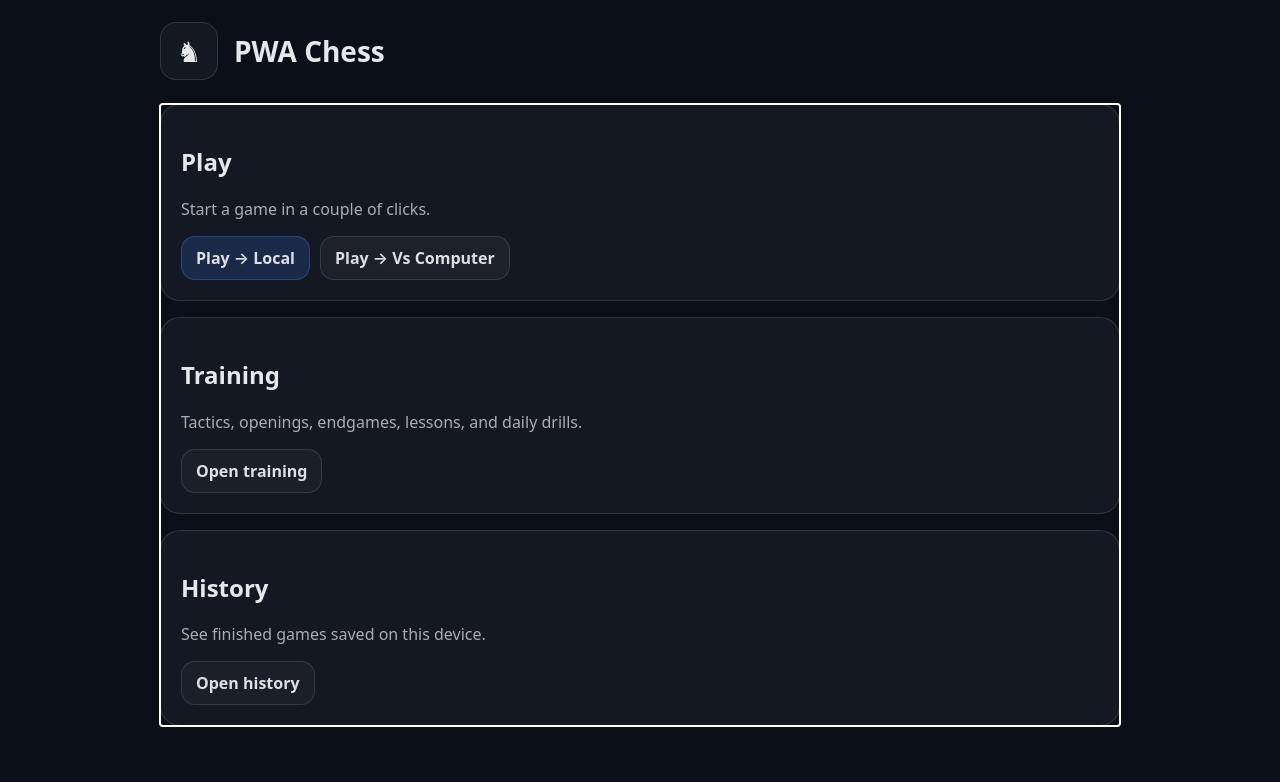
Scenario: Local game board › lets the user select a piece, highlights legal moves, and applies a move
Click the link "Play → Local" at [246, 258], box [181, 236, 310, 280]
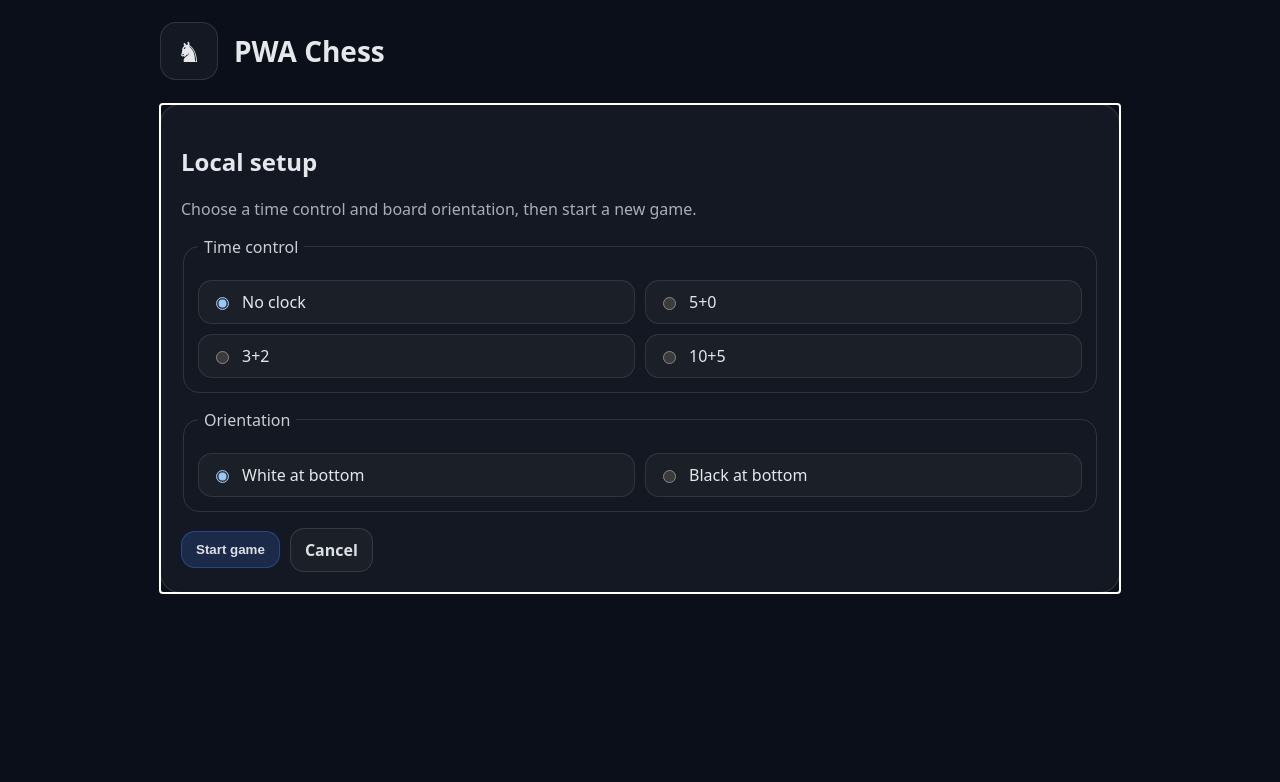
Click the button "Start game" at [230, 550], box [181, 531, 280, 568]
(page scrolled)
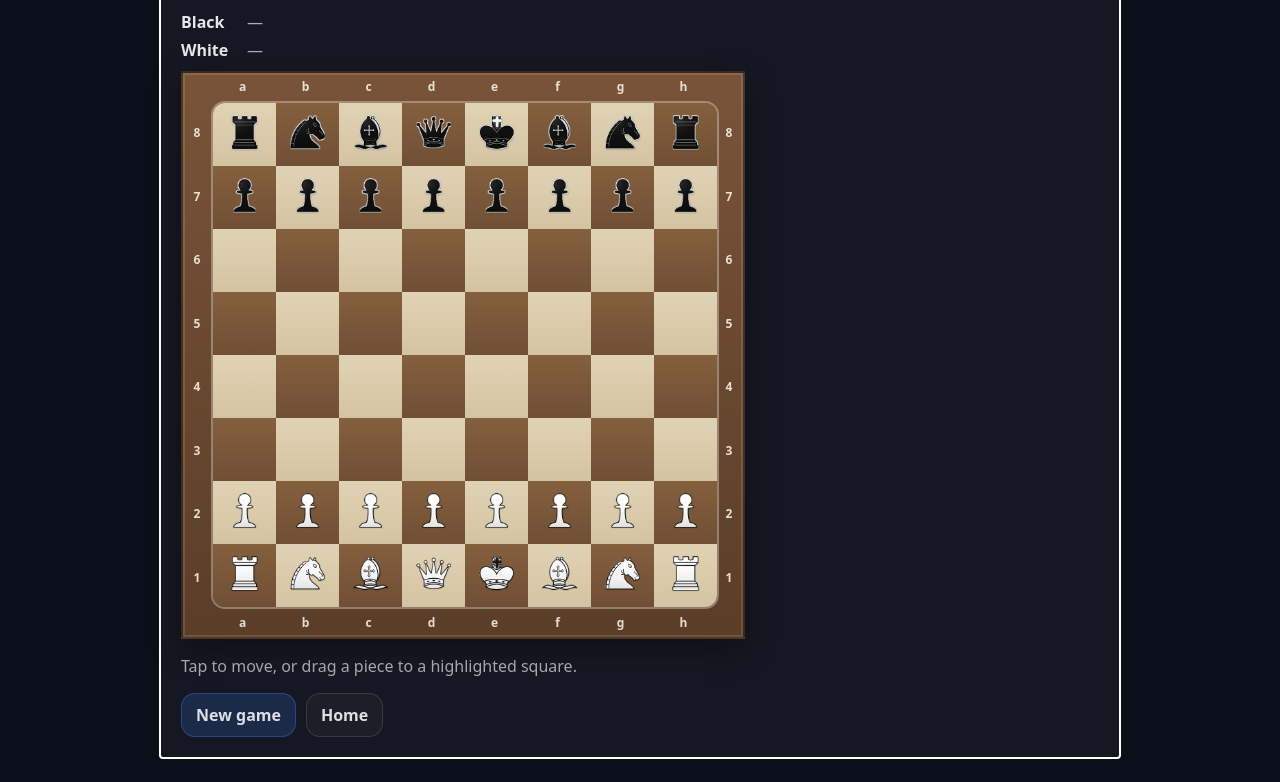
Click the button named "square e2, white pawn" at [496, 512], box [465, 481, 528, 544]
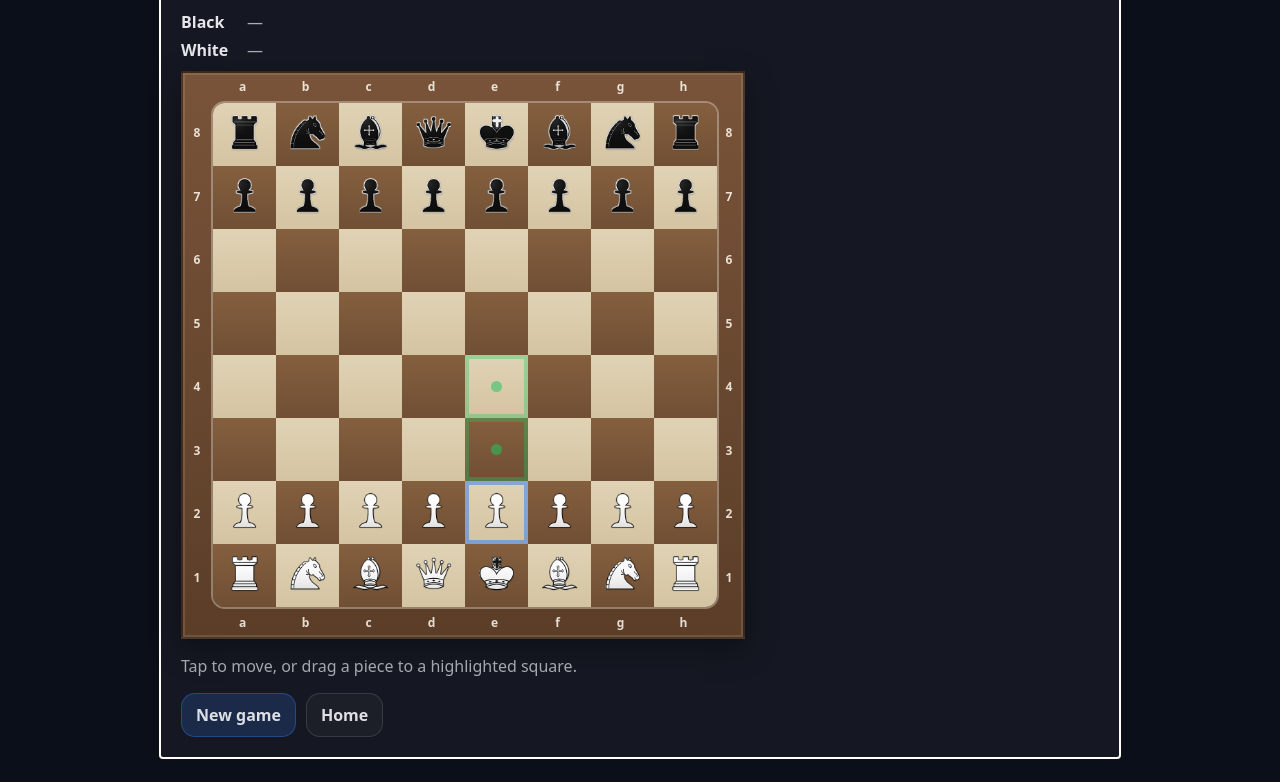
Result: the button named "square e4" has class "boardSq-legal"
Click the button named "square e4" at [496, 386], box [465, 355, 528, 418]
(page scrolled)
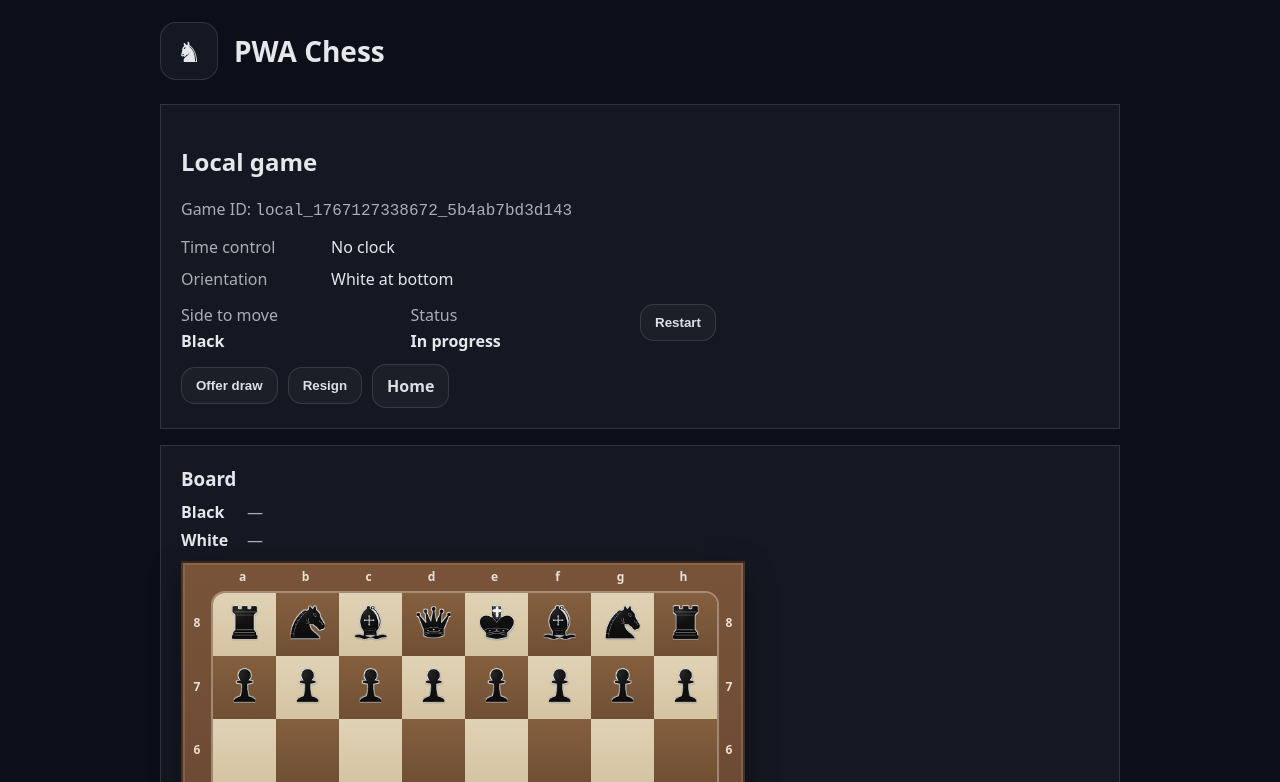
Result: the text "Side to move Black" is shown at [181, 304, 278, 352]
Result: the text "Black" below "Side to move" is shown at [181, 330, 224, 352]
